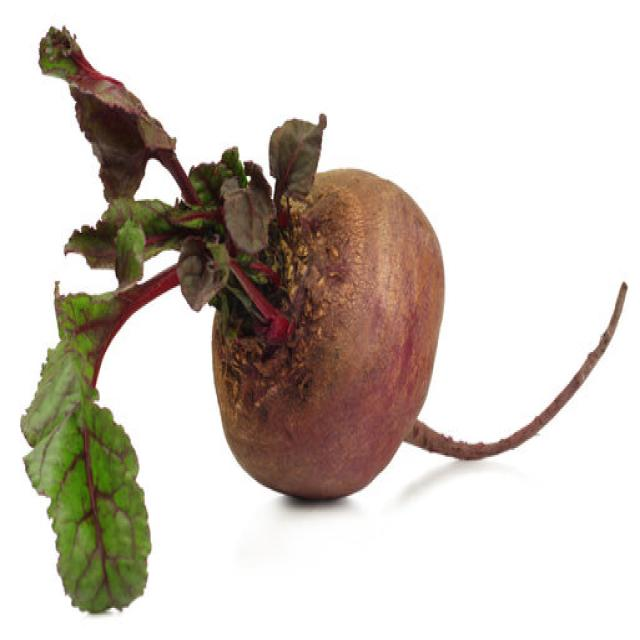Beetroot: (89, 120, 622, 506)
Carrot: (402, 279, 628, 461)
Ginger: (20, 23, 627, 613)
